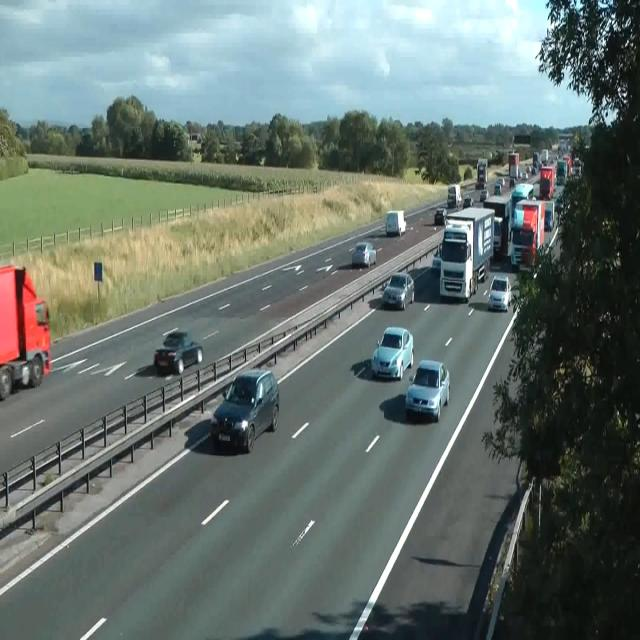bus: (154, 328, 204, 375), (554, 354, 594, 388), (382, 272, 414, 310), (488, 274, 512, 311), (352, 242, 376, 268), (432, 243, 442, 271), (434, 207, 447, 225), (554, 192, 564, 213), (462, 195, 473, 209), (479, 187, 488, 201), (494, 183, 501, 196)
car: (432, 147, 582, 303)
jeep: (209, 367, 279, 453), (404, 358, 450, 422), (371, 326, 414, 380)
minibus: (0, 264, 51, 400), (438, 206, 495, 302), (483, 181, 533, 259), (509, 198, 545, 270), (385, 210, 406, 236), (539, 166, 554, 199), (541, 198, 555, 231), (446, 183, 462, 208), (508, 152, 520, 180), (555, 158, 567, 185), (477, 157, 487, 185)
